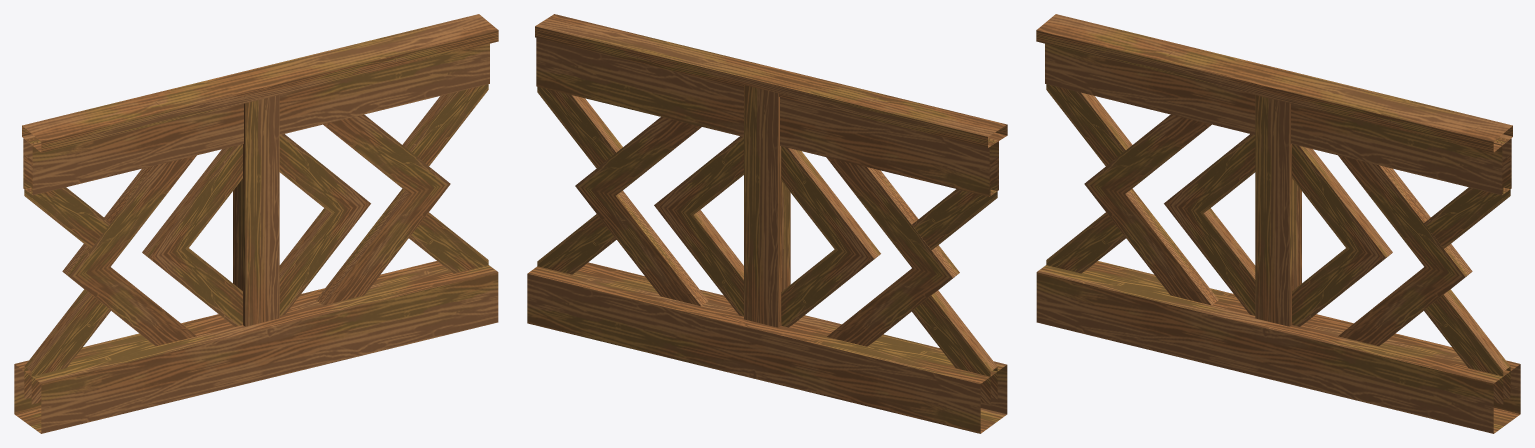
Rendered from Balcony_Cross_Straight.gltf.
The picture shows the model from 3 angles, left to right: view 1: azimuth 30°, elevation 25°; view 2: azimuth 150°, elevation 25°; view 3: azimuth 330°, elevation 25°; orthographic projection.
Visible parts, largest first — view 1: Balcony_Cross_Straight; view 2: Balcony_Cross_Straight; view 3: Balcony_Cross_Straight.
Part boxes in pixels (x1=…): Balcony_Cross_Straight: x1=14, y1=14, x2=498, y2=433; Balcony_Cross_Straight: x1=527, y1=14, x2=1007, y2=433; Balcony_Cross_Straight: x1=1036, y1=14, x2=1520, y2=433.
Size of the model in its own units: 2 by 1.23 by 0.2063.
Materials: 1 (1 with a texture image).
